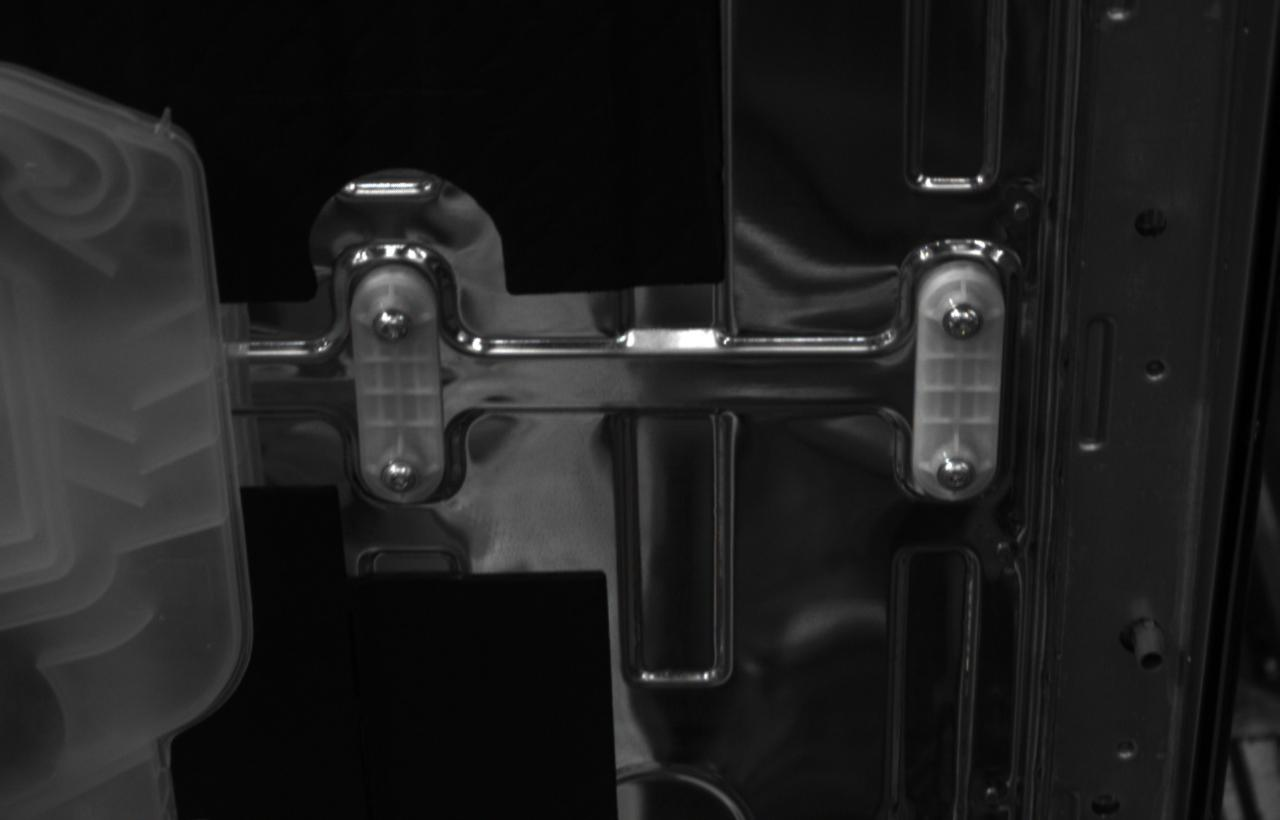vida-ok: (942, 303, 981, 341), (372, 309, 412, 343), (937, 457, 976, 491), (381, 461, 418, 494)
